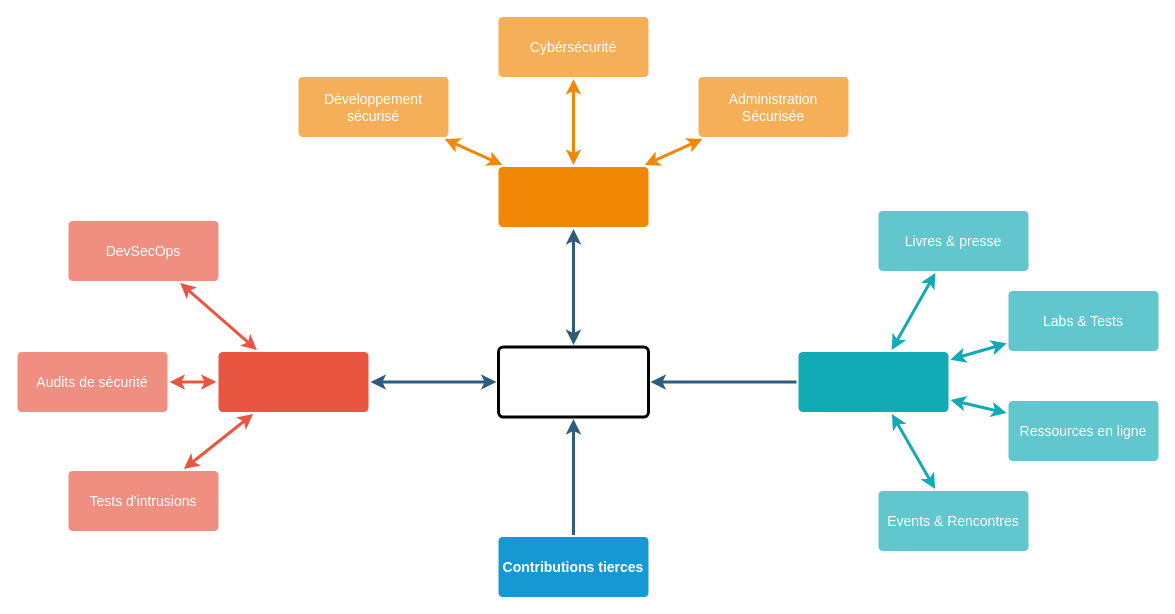
This 1175x614 diagram has some shape labels left out. Each missing label, with the centre of its shape:
Auto-formation: [873,382]
DOJO-101: [573,381]
Prestations de Formation: [573,196]
Prestations Opérationnelles: [293,382]
